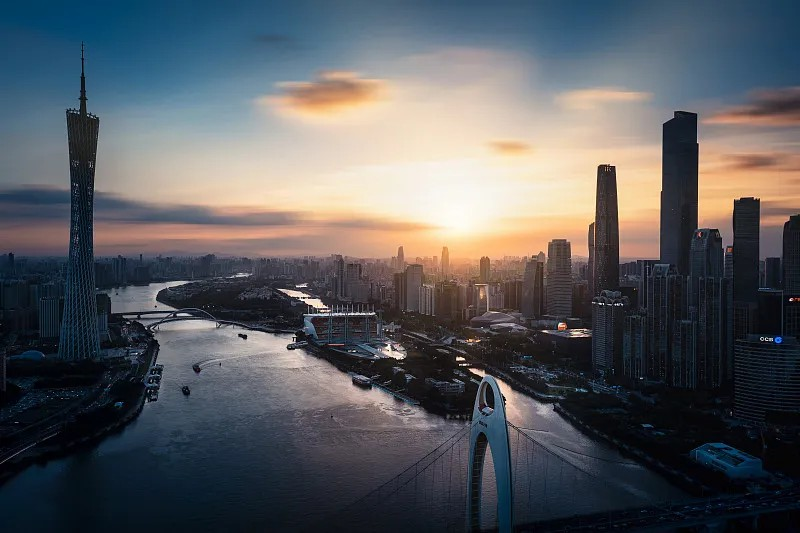Canton: (58, 42, 104, 360)
